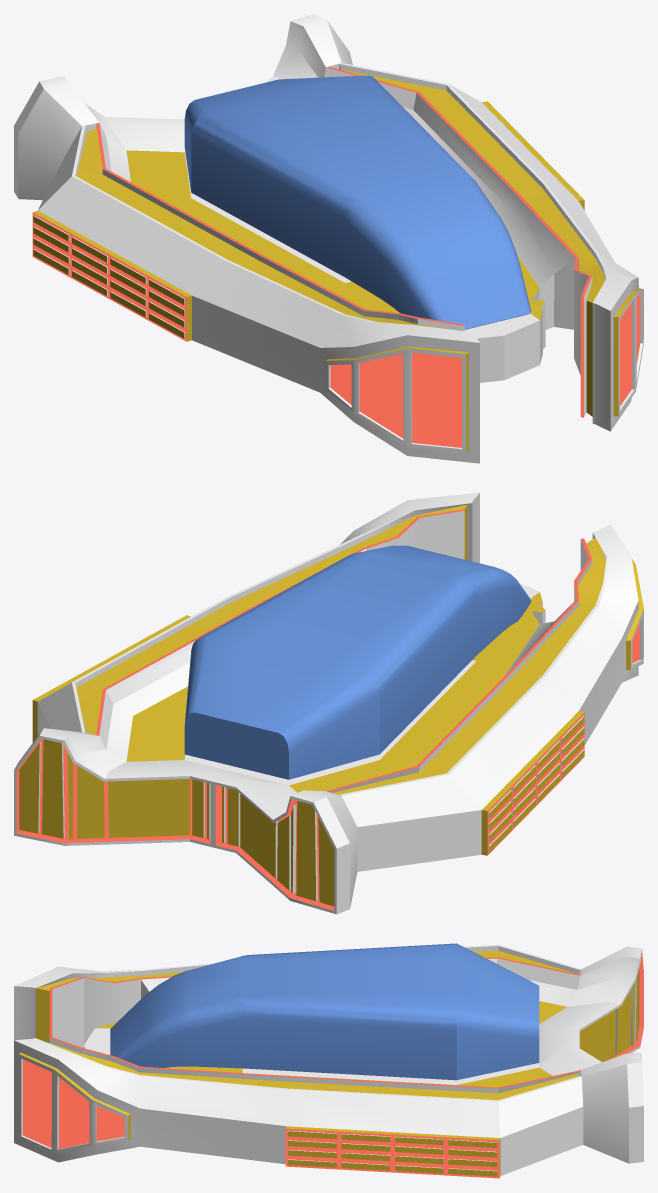
Rendered from StarShip_4.fbx.
3 renders of one model, top to bottom at view 1: azimuth 30°, elevation 25°; view 2: azimuth 150°, elevation 25°; view 3: azimuth 270°, elevation 25°, orthographic. The views are drawn at different scales.
Parts seen in each view (by area): view 1: StarShip_4; view 2: StarShip_4; view 3: StarShip_4.
Boxes of the visible parts, box(x1,y1,x2,y2) form: StarShip_4: box(14, 14, 643, 463); StarShip_4: box(14, 492, 643, 914); StarShip_4: box(14, 943, 643, 1178).
Bounding box in the file's own units: 1030 × 351 × 1446.
